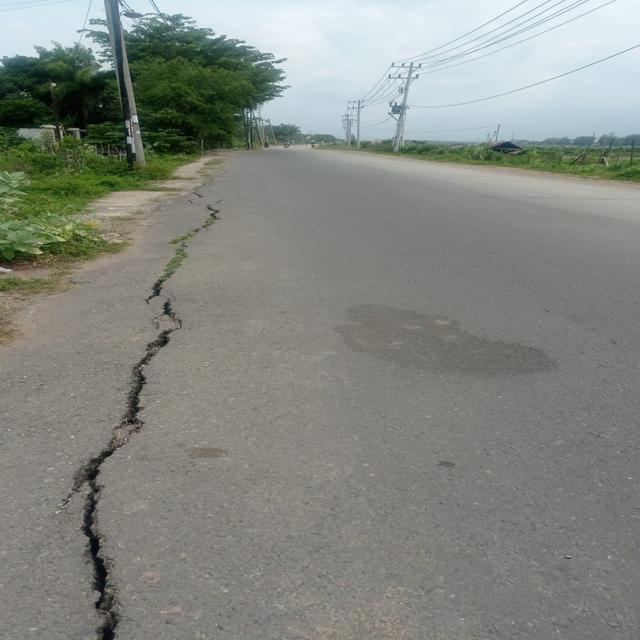Memanjang: (58, 183, 234, 640)
